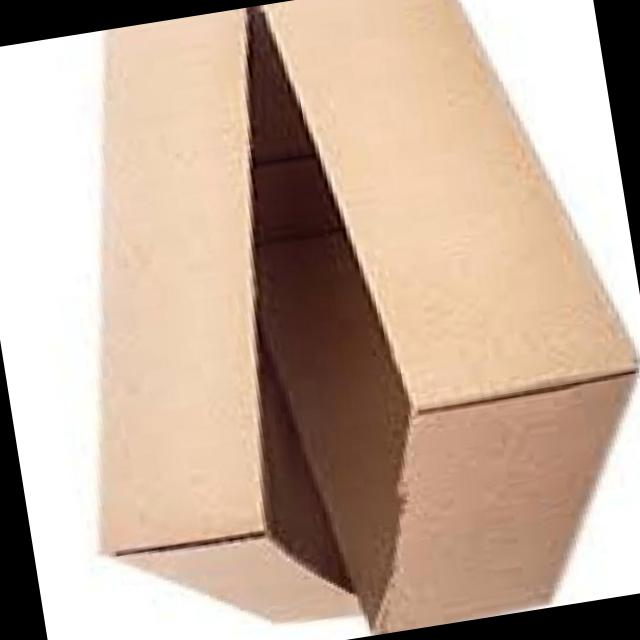cardboard paper: (97, 0, 633, 635)
